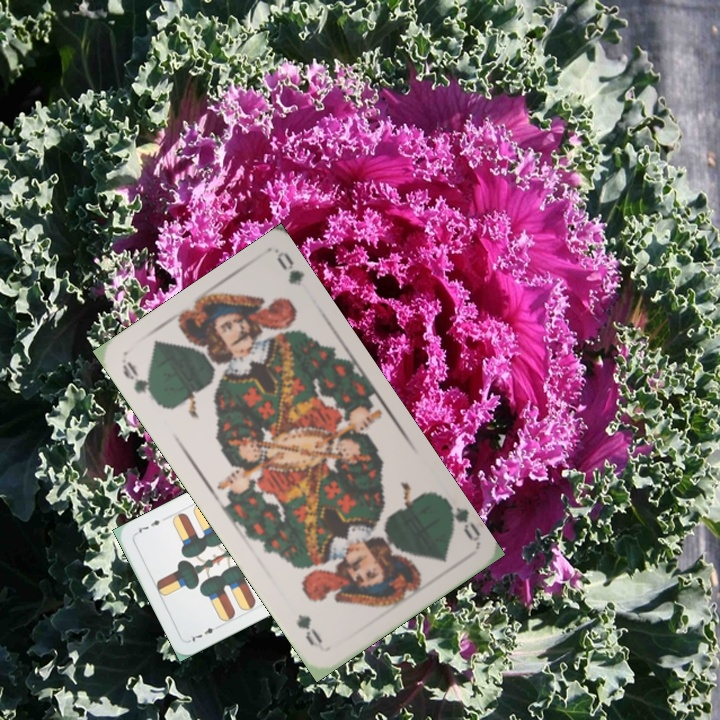E7: (185, 620, 223, 644)
GO: (439, 493, 483, 544), (118, 357, 161, 408)
